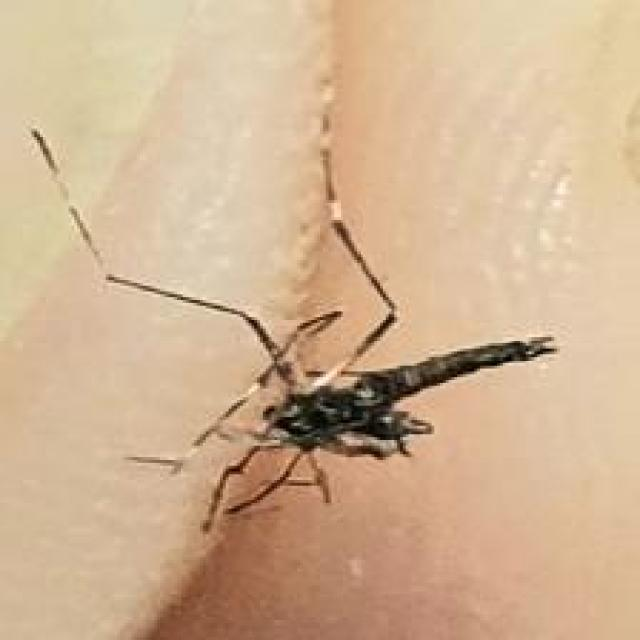Aedes albopictus: (29, 121, 560, 536)
